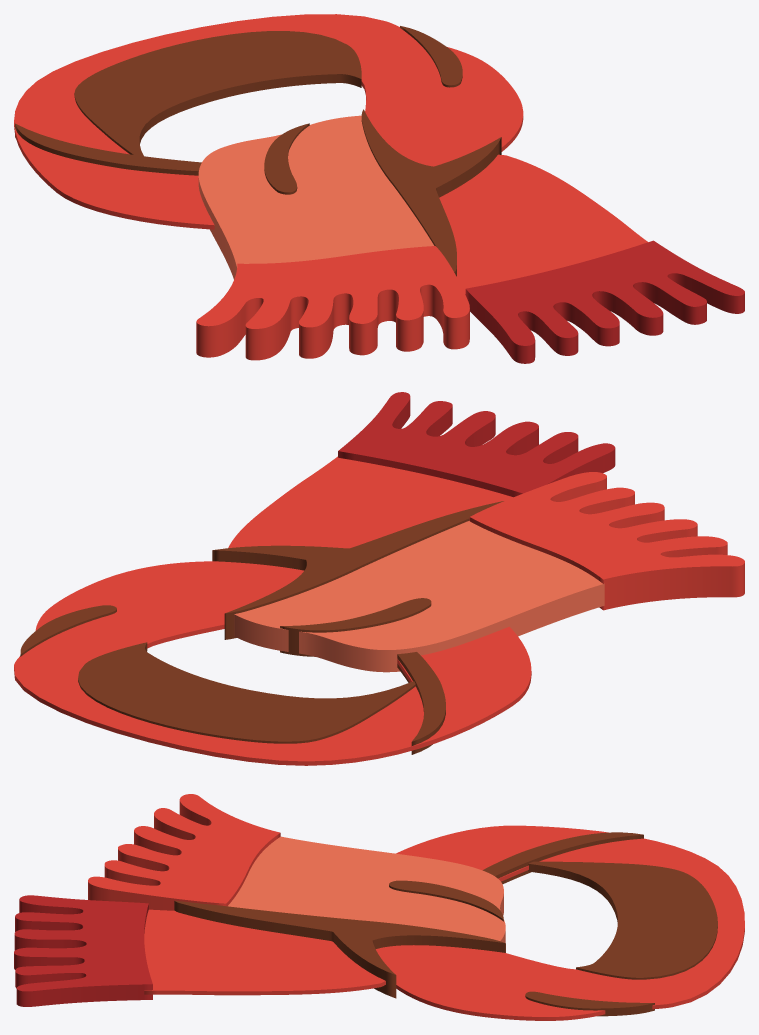
Rendered from emoji_u1f9e3.glb.
3 renders of one model, top to bottom at view 1: azimuth 30°, elevation 25°; view 2: azimuth 150°, elevation 25°; view 3: azimuth 270°, elevation 25°, orthographic. The views are drawn at different scales.
Visible parts, largest first — view 1: emoji_u1f9e3; view 2: emoji_u1f9e3; view 3: emoji_u1f9e3.
Part boxes in pixels (x1,y1,x2,y2): emoji_u1f9e3: (14,14,744,363); emoji_u1f9e3: (14,392,744,765); emoji_u1f9e3: (14,794,744,1020).
Bounding box in the file's own units: 0.0232 × 0.0014 × 0.0339.
